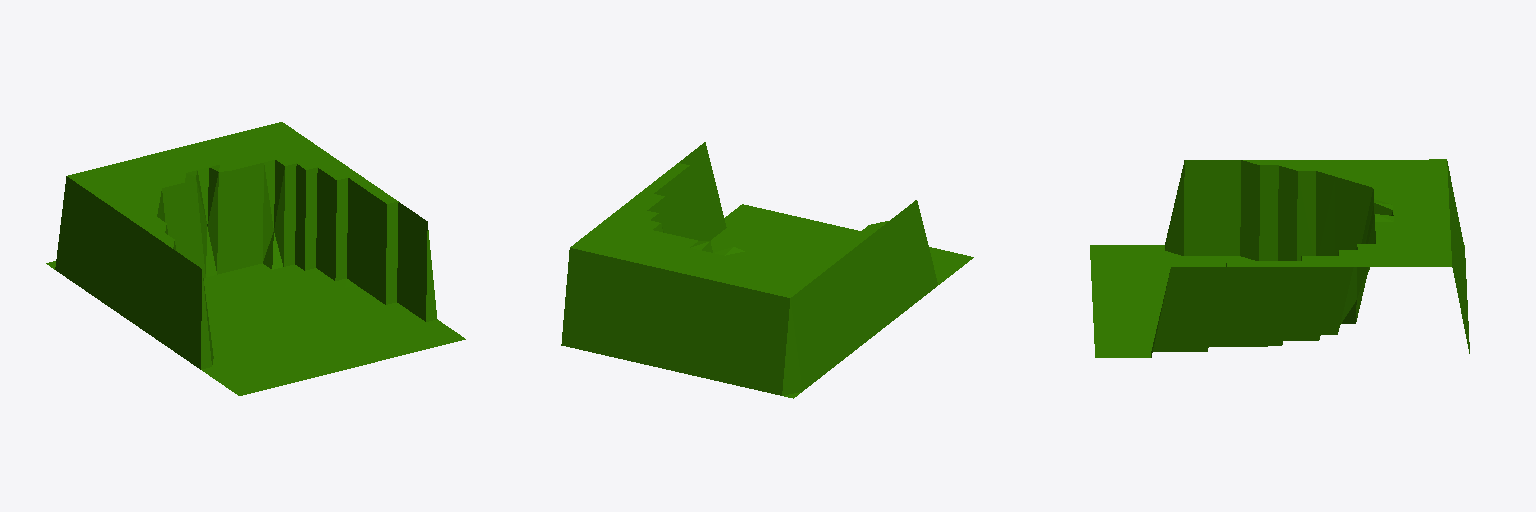
Rendered from waterfall-less.obj.
The picture shows the model from 3 angles: view 1: azimuth 30°, elevation 25°; view 2: azimuth 150°, elevation 25°; view 3: azimuth 270°, elevation 25°; orthographic projection.
Visible parts, largest first — view 1: plane; view 2: plane; view 3: plane.
Part boxes in pixels (bbox=[...]): plane: bbox=[46, 122, 465, 395]; plane: bbox=[561, 142, 973, 398]; plane: bbox=[1090, 159, 1469, 357].
Size of the model in its own units: 21.6 by 8.22 by 30.12.